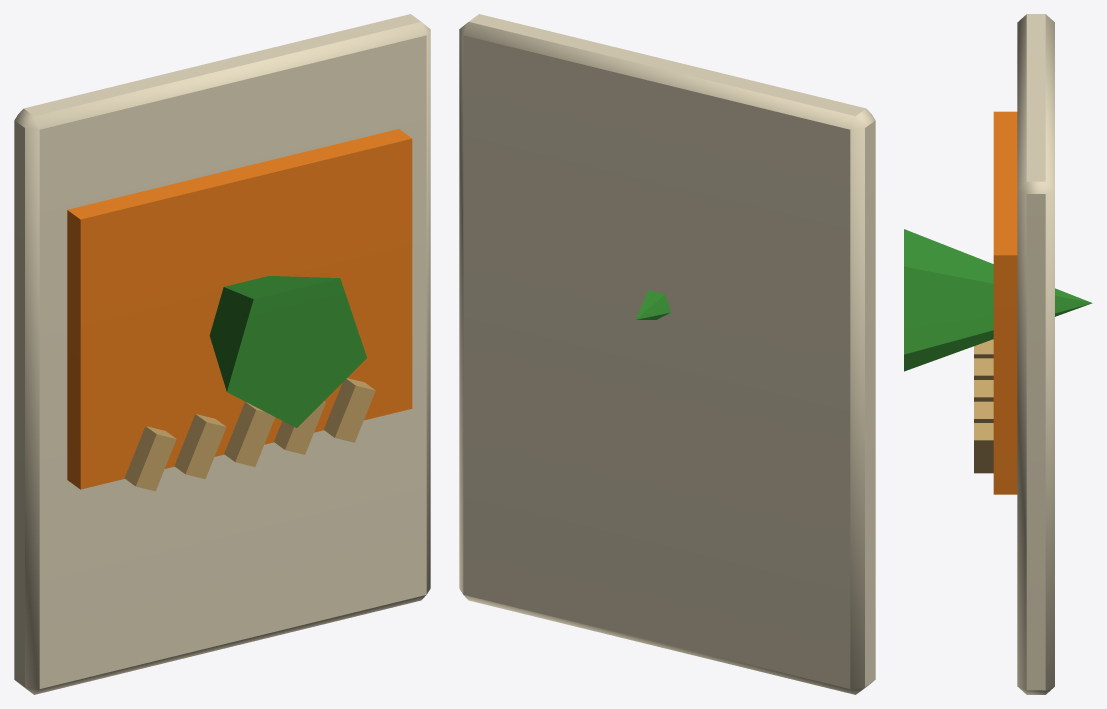
The model's file is item_seed.glb.
3 views of the same model, side by side, from view 1: azimuth 30°, elevation 25°; view 2: azimuth 150°, elevation 25°; view 3: azimuth 270°, elevation 25° (orthographic). The views are drawn at different scales.
Parts seen in each view (by area): view 1: item_seed, item_seed_detail; view 2: item_seed; view 3: item_seed, item_seed_detail.
Part boxes in pixels (x1=…): item_seed: x1=14, y1=14, x2=430, y2=694; item_seed_detail: x1=124, y1=378, x2=375, y2=491; item_seed: x1=459, y1=14, x2=875, y2=694; item_seed: x1=904, y1=14, x2=1092, y2=694; item_seed_detail: x1=974, y1=339, x2=993, y2=473.
Size of the model in its own units: 0.22 by 0.3 by 0.1.
